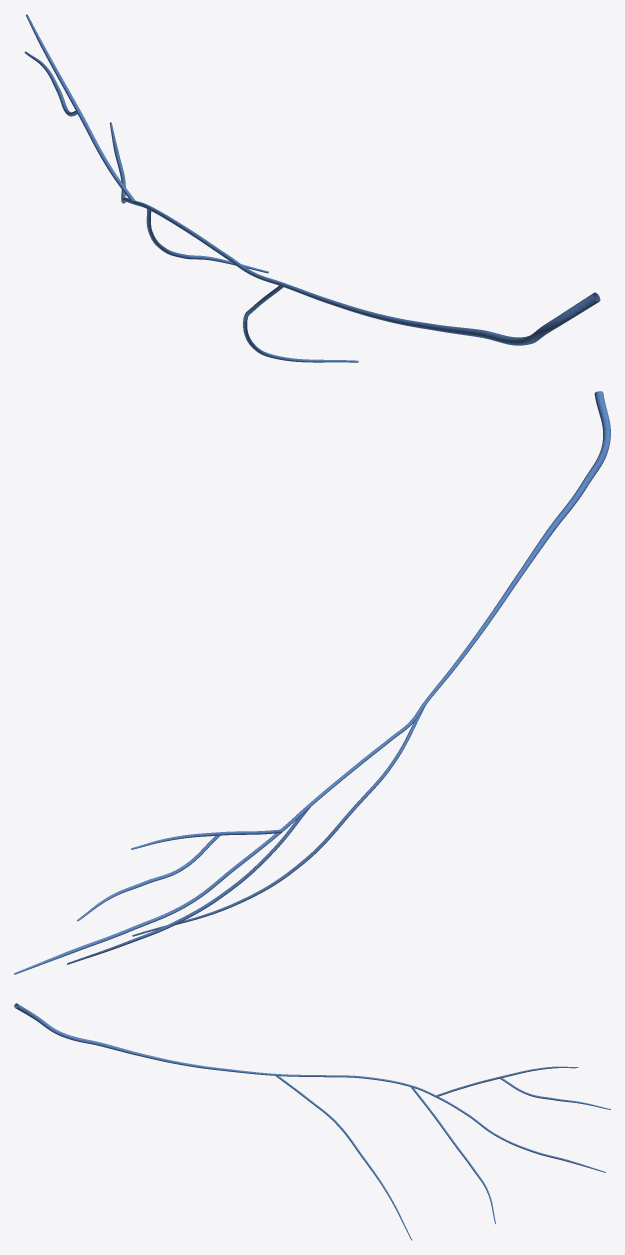
3 renders of one model, top to bottom at view 1: azimuth 30°, elevation 25°; view 2: azimuth 150°, elevation 25°; view 3: azimuth 270°, elevation 25°, orthographic. The views are drawn at different scales.
Visible parts, largest first — view 1: 右侧胸外侧静脉; view 2: 右侧胸外侧静脉; view 3: 右侧胸外侧静脉.
Part boxes in pixels (bbox=[...]): 右侧胸外侧静脉: bbox=[24, 14, 600, 362]; 右侧胸外侧静脉: bbox=[14, 391, 610, 974]; 右侧胸外侧静脉: bbox=[14, 1003, 610, 1240].
Bounding box in the file's own units: 0.1066 × 0.1832 × 0.4994.
